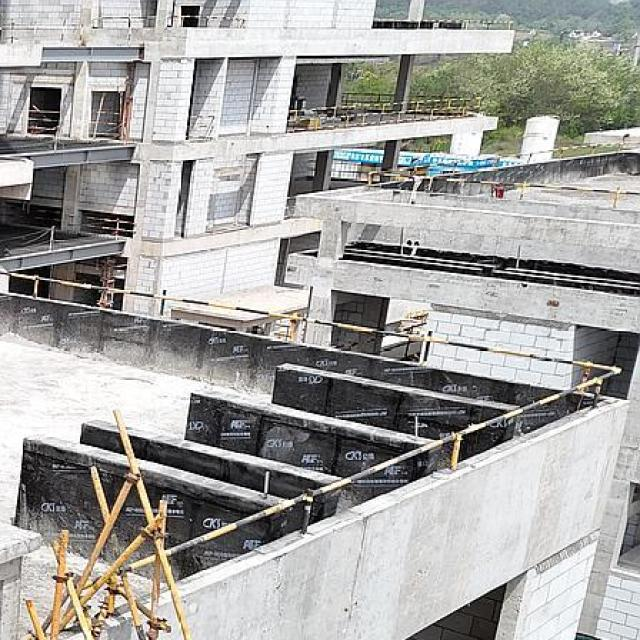edge_guardrail: (0, 243, 623, 578), (365, 138, 640, 207), (286, 94, 481, 134), (331, 321, 428, 358), (374, 16, 514, 31), (81, 210, 135, 236), (330, 158, 383, 181), (90, 13, 171, 28), (4, 201, 61, 222), (341, 91, 395, 109), (89, 110, 121, 136), (174, 15, 244, 26), (27, 110, 60, 130), (187, 114, 214, 127)
